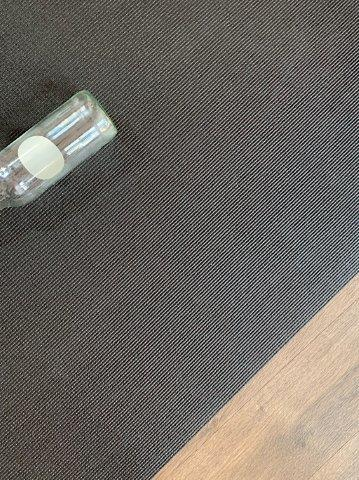botolkaca: (1, 87, 118, 215)
